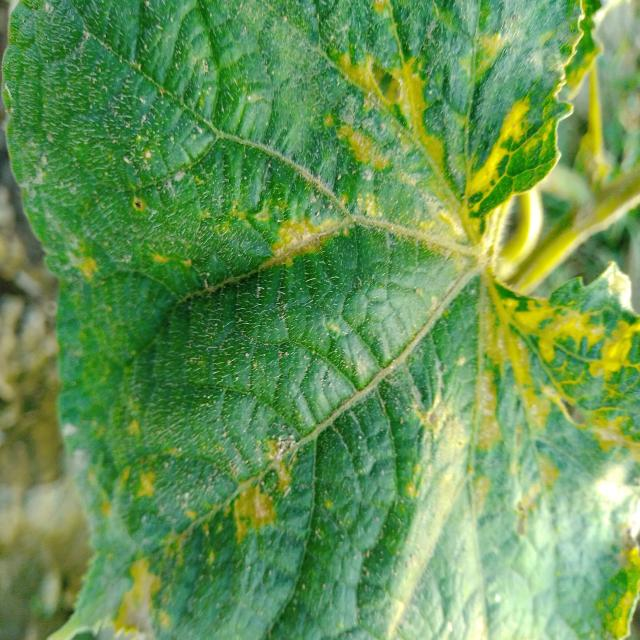cucumber_downy: (116, 6, 613, 627)
